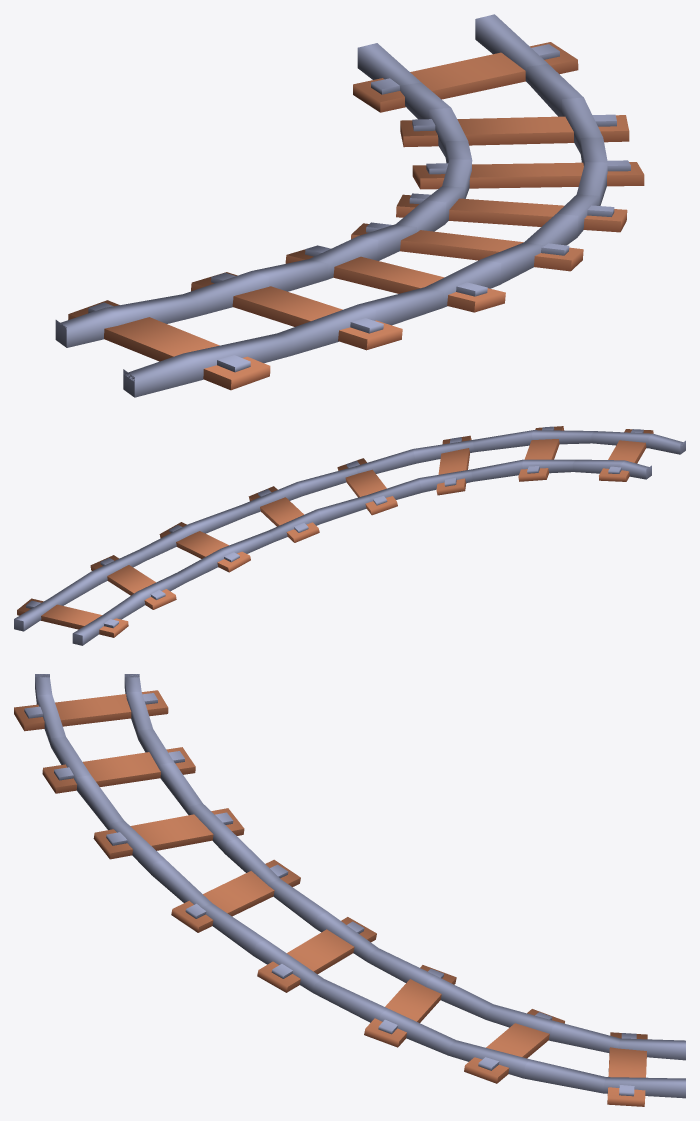
Rendered from railroad-damaged-corner-large-ramp.glb.
3 views of the same model, one above another, from view 1: azimuth 30°, elevation 25°; view 2: azimuth 150°, elevation 25°; view 3: azimuth 270°, elevation 25° (orthographic). The views are drawn at different scales.
Parts seen in each view (by area): view 1: railroad-damaged-corner-large-ramp; view 2: railroad-damaged-corner-large-ramp; view 3: railroad-damaged-corner-large-ramp.
Boxes of the visible parts, x1=… form: railroad-damaged-corner-large-ramp: x1=55, y1=14, x2=644, y2=397; railroad-damaged-corner-large-ramp: x1=14, y1=426, x2=685, y2=645; railroad-damaged-corner-large-ramp: x1=14, y1=674, x2=685, y2=1106.
Bounding box in the file's own units: 4.48 × 1.1 × 4.49.
